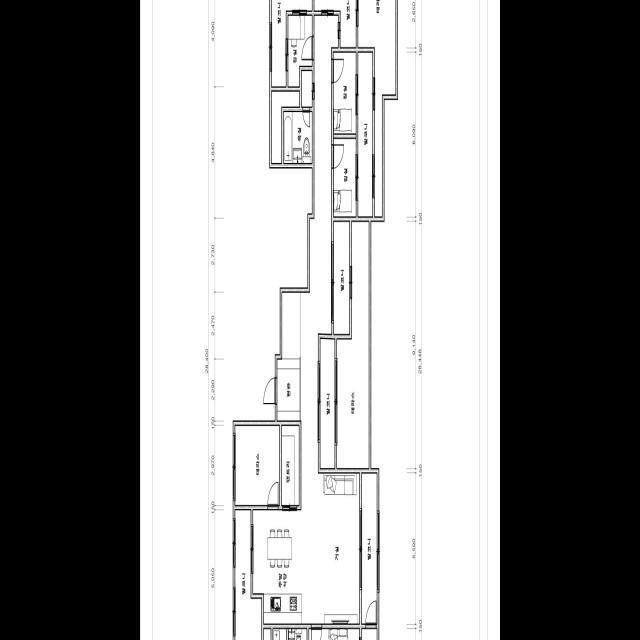background: (140, 0, 500, 640)
space_balconi: (358, 0, 396, 216), (337, 221, 369, 468), (235, 425, 279, 504), (272, 0, 312, 86), (235, 510, 261, 640), (358, 52, 372, 216), (362, 473, 377, 623), (314, 0, 356, 47), (320, 338, 335, 468), (334, 221, 349, 333)
space_bedroom: (334, 52, 356, 133), (334, 138, 356, 216), (288, 15, 312, 86)
space_front: (277, 292, 300, 420)
space_kitchen: (253, 510, 301, 623)
space_living_room: (300, 15, 359, 623)
space_other: (272, 91, 299, 162), (282, 425, 299, 505), (302, 71, 312, 106), (264, 628, 271, 640)
space_toilet: (284, 112, 312, 163), (289, 628, 307, 640), (273, 629, 286, 640)
